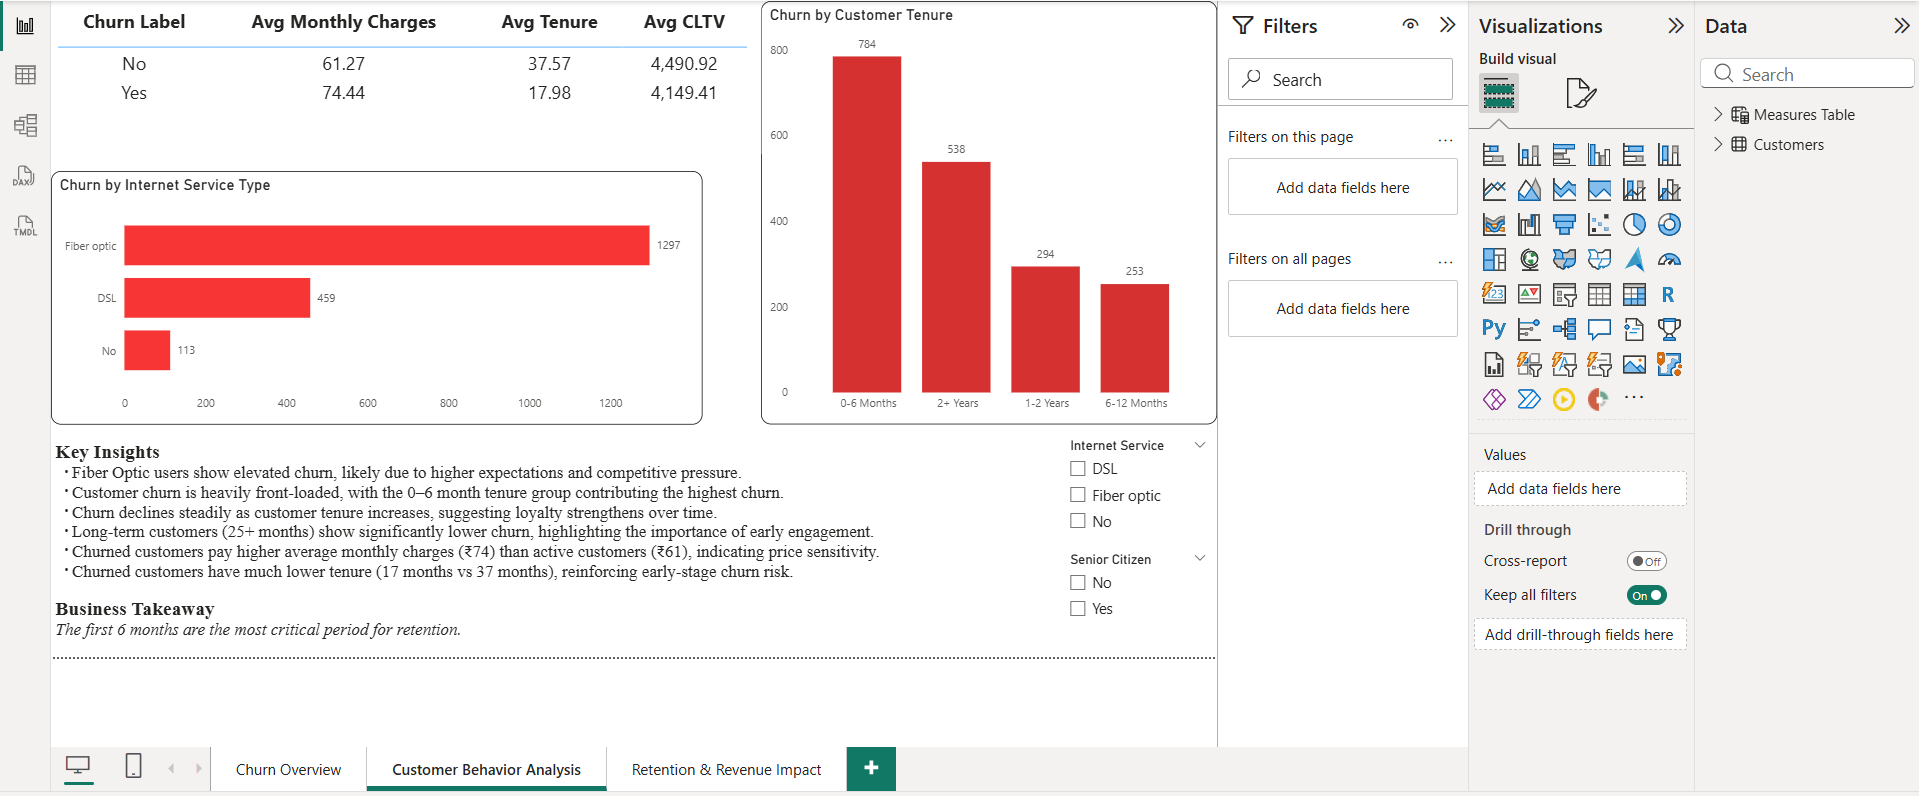

This screenshot's page, from the dashboard's own definition file:
{"tool":"powerbi","page":{"name":"Customer Behavior Analysis","canvas":[1280,720],"ordinal":1},"visuals":[{"type":"clusteredColumnChart","title":"Churn by Customer Tenure","fields":{"Category":["Customers.Tenure Group"],"Y":["Measures Table.Churned Customers"]},"box":[779.4,0,500.9,465.2],"z":0},{"type":"clusteredBarChart","title":"Churn by Internet Service Type","fields":{"Category":["Customers.Internet Service"],"Y":["Measures Table.Churned Customers"]},"box":[0,186.6,714.9,278.6],"z":1000},{"type":"tableEx","fields":{"Values":["Customers.Churn Label","Measures Table.Avg Monthly Charges","Measures Table.Avg Tenure","Measures Table.Avg CLTV"]},"box":[1.4,0,778,167.4],"z":2000},{"type":"textbox","box":[0,477.5,926.2,242.9],"z":3000},{"type":"slicer","fields":{"Values":["Customers.Internet Service"]},"box":[1106,474.8,174.3,124.9],"z":4000},{"type":"slicer","fields":{"Values":["Customers.Senior Citizen"]},"box":[1106,599.7,174.3,91.9],"z":5000}]}

Visuals, with their boxes on the page's 1280x720 design canvas (x1, y1, x2, y2). These are canvas units, not pixel positions in the 1919x796 screenshot, which may show the page scaled, cropped or inside an application window:
"Churn by Customer Tenure" clusteredColumnChart: l=779, t=0, r=1280, b=465
"Churn by Internet Service Type" clusteredBarChart: l=0, t=187, r=715, b=465
tableEx - Customers.Churn Label x Measures Table.Avg Monthly Charges: l=1, t=0, r=779, b=167
textbox: l=0, t=478, r=926, b=720
slicer - Customers.Internet Service: l=1106, t=475, r=1280, b=600
slicer - Customers.Senior Citizen: l=1106, t=600, r=1280, b=692
